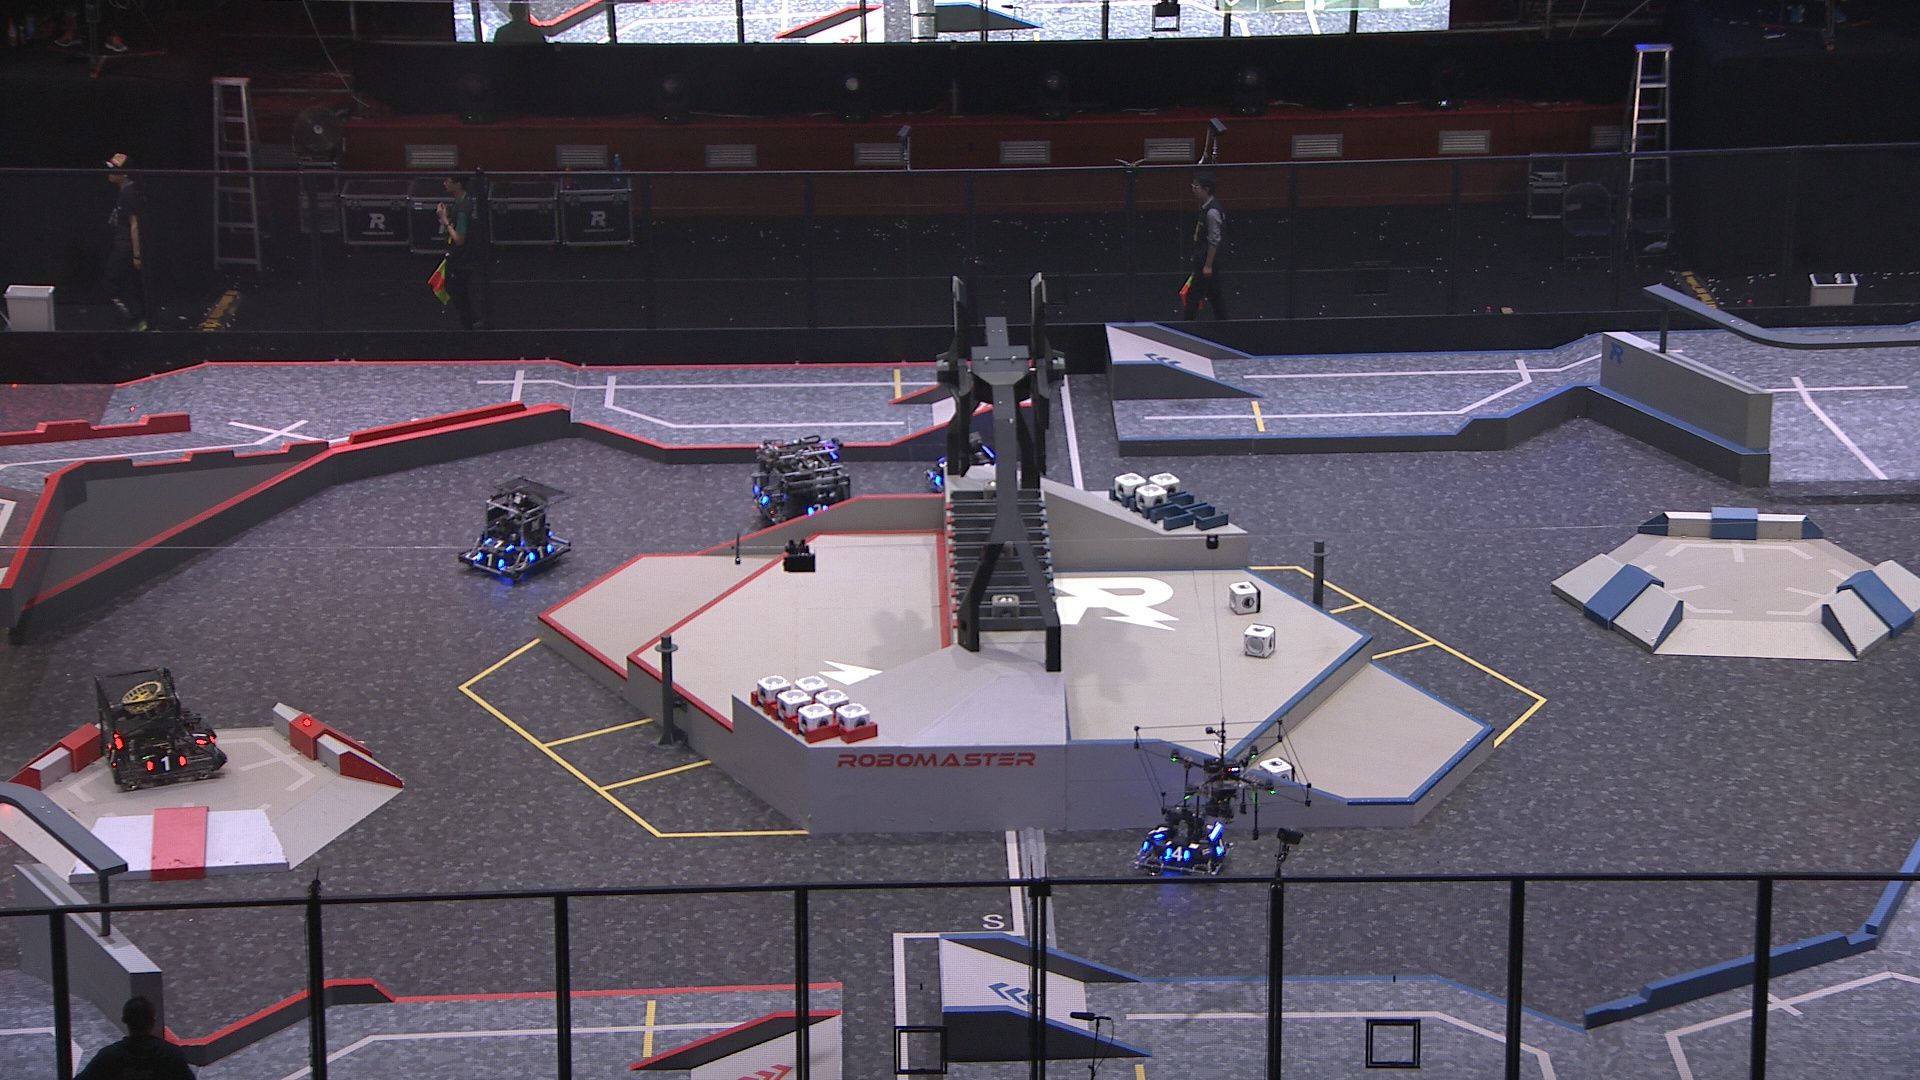armor: (144, 754, 185, 771), (485, 533, 517, 553), (475, 553, 505, 570), (103, 742, 119, 771), (1163, 845, 1188, 862), (190, 727, 211, 746), (529, 543, 553, 560), (936, 455, 953, 472), (1153, 822, 1168, 840), (1215, 837, 1228, 858), (807, 502, 828, 514), (756, 487, 767, 508)
car: (88, 666, 228, 790), (746, 436, 858, 541), (458, 480, 574, 580), (922, 427, 1015, 520), (1133, 808, 1232, 882)
